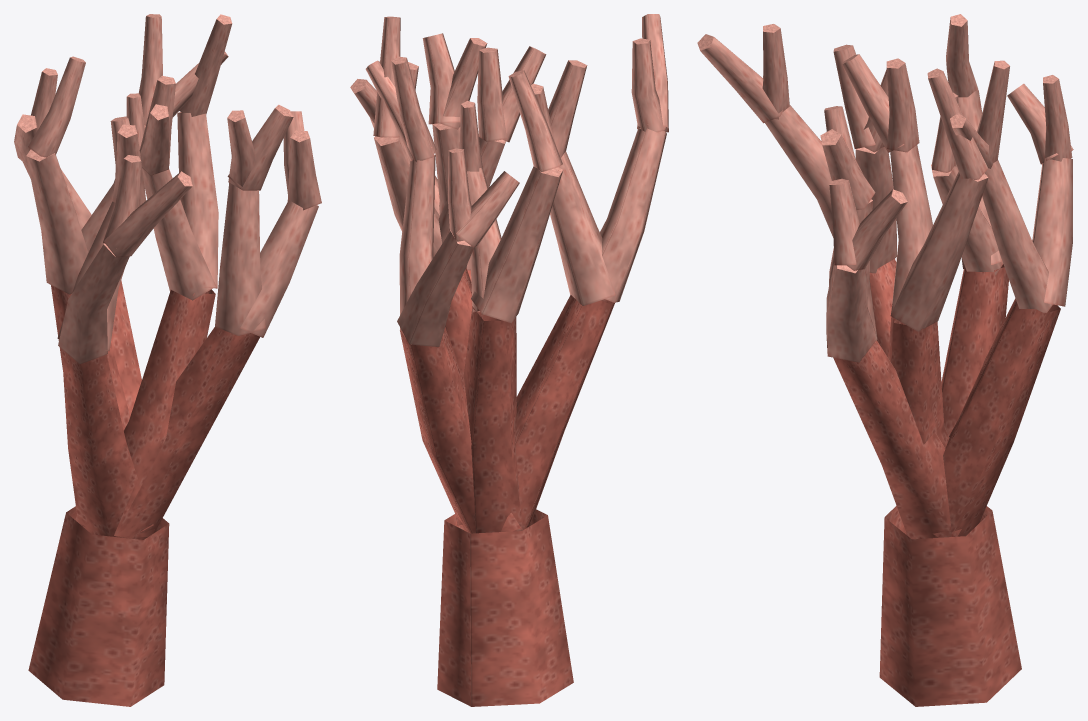
File: plant_shallows_coral_branch_a.glb
The picture shows the model from 3 angles, left to right: view 1: azimuth 30°, elevation 25°; view 2: azimuth 150°, elevation 25°; view 3: azimuth 270°, elevation 25°; orthographic projection. The views are drawn at different scales.
Parts seen in each view (by area): view 1: plant_shallows_coral_branch_a; view 2: plant_shallows_coral_branch_a; view 3: plant_shallows_coral_branch_a.
Part boxes in pixels (left/top/right/bottom): plant_shallows_coral_branch_a: left=14, top=14, right=321, bottom=706; plant_shallows_coral_branch_a: left=350, top=14, right=668, bottom=706; plant_shallows_coral_branch_a: left=697, top=14, right=1073, bottom=706.
Size of the model in its own units: 0.2558 by 0.602 by 0.306.
1 material, 1 textured.
